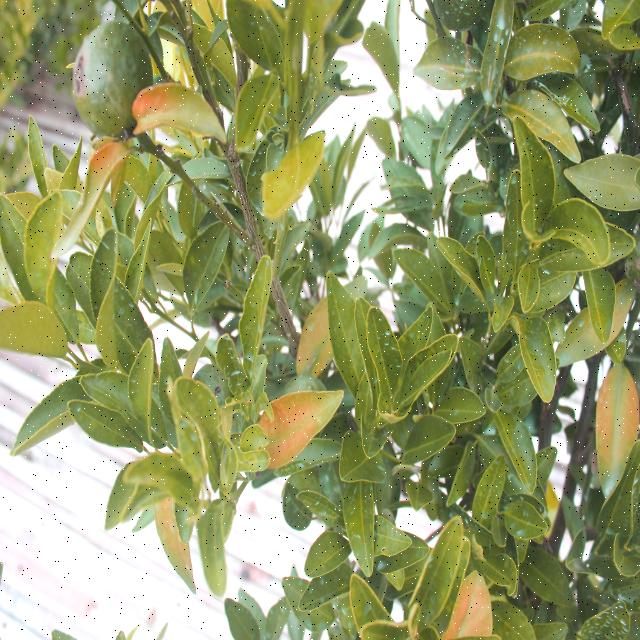greening: (53, 141, 128, 249), (264, 382, 345, 472), (132, 84, 225, 150), (596, 367, 640, 489), (267, 136, 324, 224), (445, 570, 492, 640)
